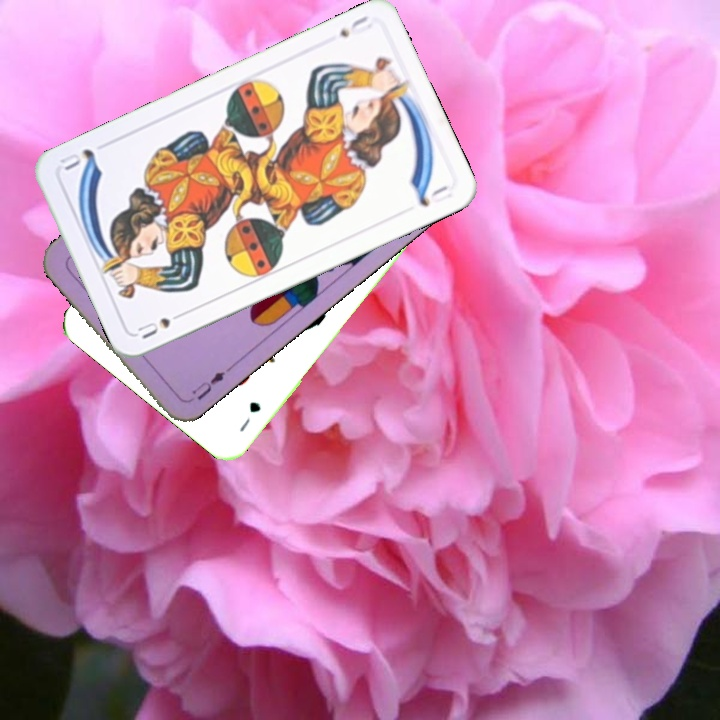EU: (184, 363, 234, 404)
GU: (235, 397, 264, 435)
SU: (132, 307, 189, 342), (335, 11, 375, 40)
